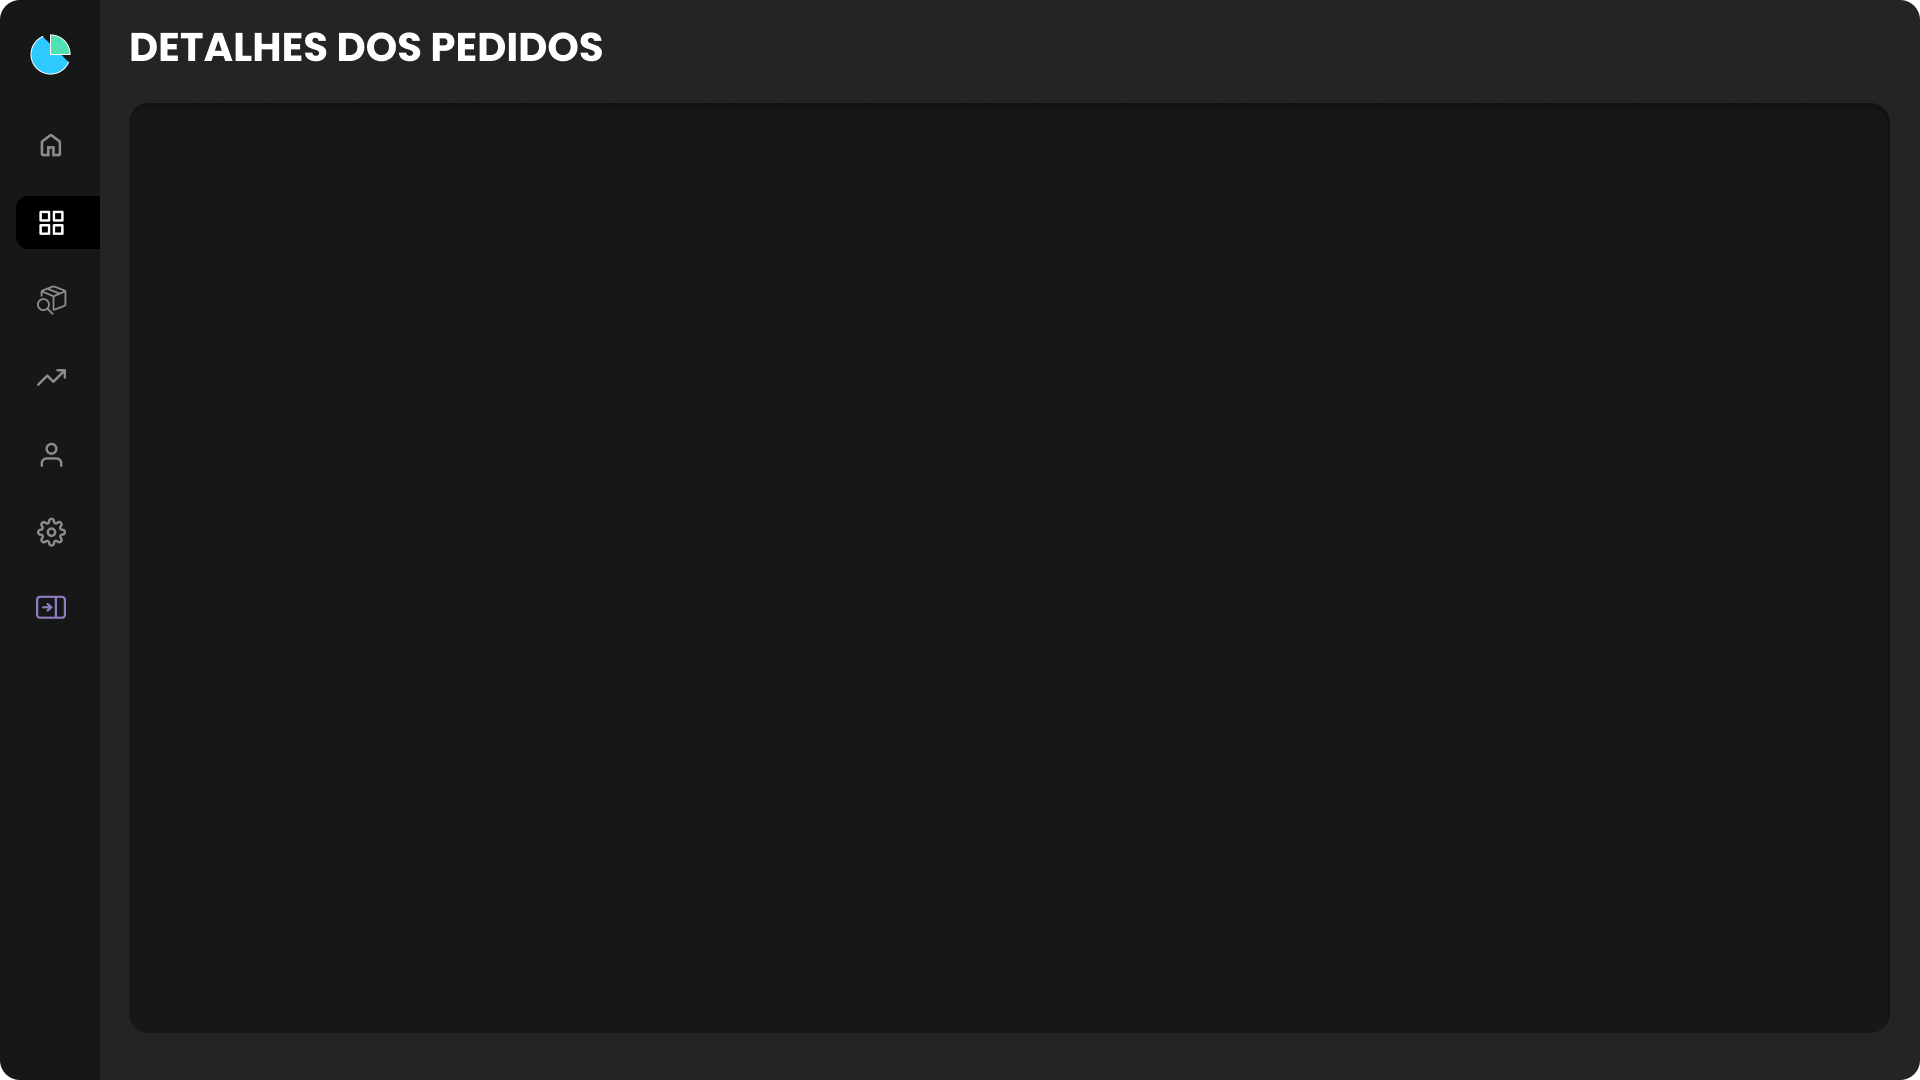

This screenshot's page, from the dashboard's own definition file:
{"tool":"powerbi","page":{"name":"Detalhes","canvas":[1280,720],"ordinal":4},"visuals":[{"type":"tableEx","fields":{"Values":["Pedidos.PI","Pedidos.Data Pedido","Pedidos.Data Prometida","Pedidos.Data Entrega","Pedidos.Fornecedor","Sum(Pedidos.Quantidade)","Sum(Pedidos.Quantidade Entregue)","Sum(Pedidos.Atraso (dias))","Pedidos.No prazo?"]},"box":[105.5,79.8,1147.2,601.2],"z":0}]}

Visuals, with their boxes on the page's 1280x720 design canvas (x1, y1, x2, y2). These are canvas units, not pixel positions in the 1920x1080 screenshot, which may show the page scaled, cropped or inside an application window:
tableEx - Pedidos.PI x Pedidos.Data Pedido: 106,80,1253,681
